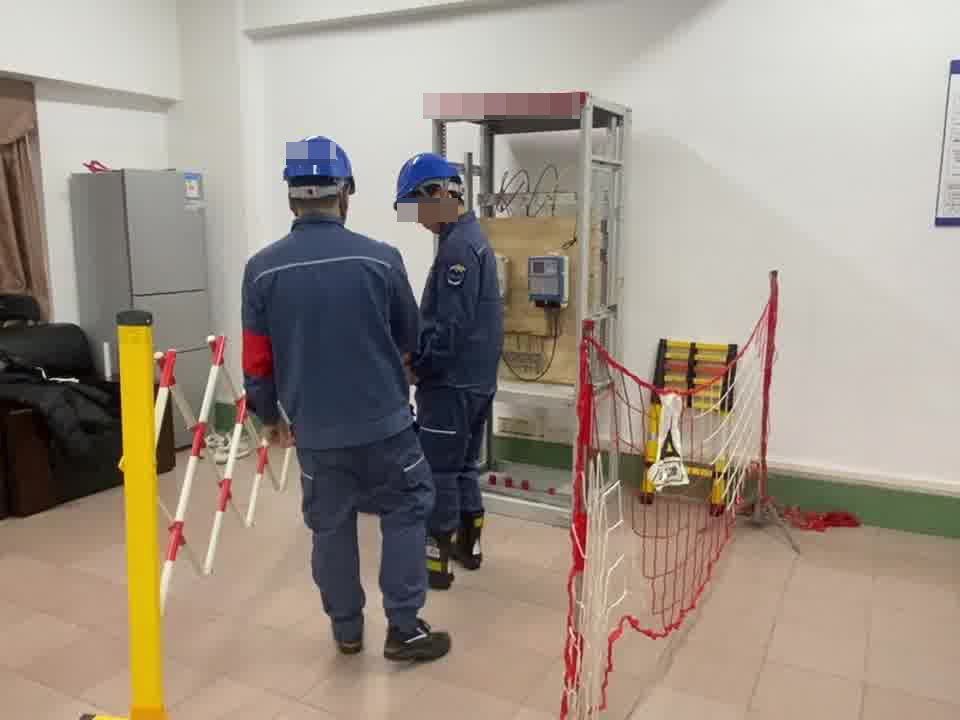badge: (241, 328, 275, 380)
downsuit: (298, 452, 435, 632), (421, 395, 489, 536)
halt: (280, 135, 358, 218), (395, 151, 468, 230)
hand: (261, 421, 294, 451)
inear: (426, 184, 451, 216), (332, 186, 357, 215)
person: (237, 134, 444, 661), (397, 149, 508, 575)
shoe: (408, 533, 456, 589), (445, 510, 484, 568)
upsuit: (239, 217, 418, 440), (419, 217, 504, 387)
